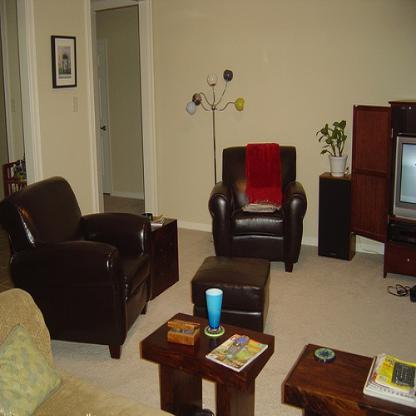chair: (1, 175, 150, 357), (208, 142, 305, 272)
tvmonitor: (394, 135, 415, 222)
